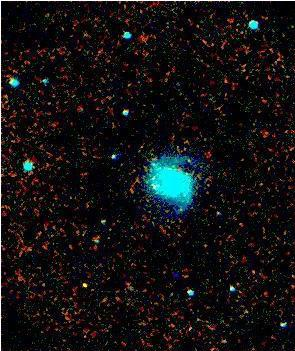star: (69, 269, 99, 299)
